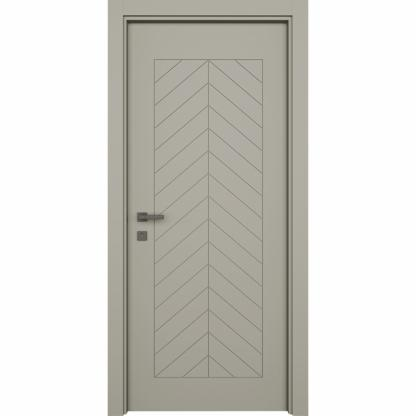door: (126, 21, 286, 411)
